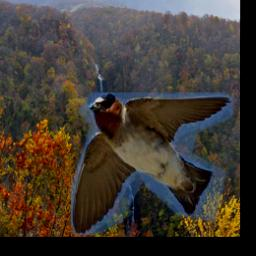Swallow: (70, 92, 232, 235)
